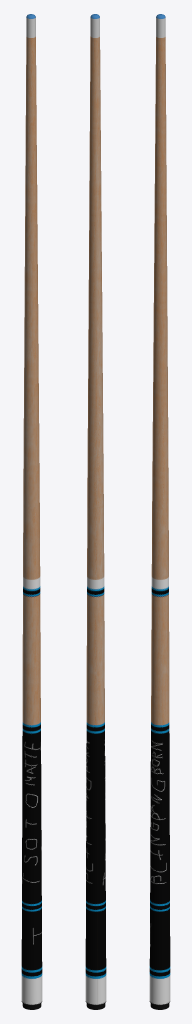
The model's file is supppp-orig.glb.
3 renders of one model, left to right at view 1: azimuth 90°, elevation 25°; view 2: azimuth 210°, elevation 25°; view 3: azimuth 270°, elevation 25°, orthographic.
Visible parts, largest first — view 1: CueStick; view 2: CueStick; view 3: CueStick.
Boxes of the visible parts, <box> form: CueStick: <box>21,14,42,1009</box>; CueStick: <box>85,14,106,1009</box>; CueStick: <box>149,14,170,1009</box>.
Size of the model in its own units: 0.0271 by 1.43 by 0.0271.
1 material, 1 textured.
